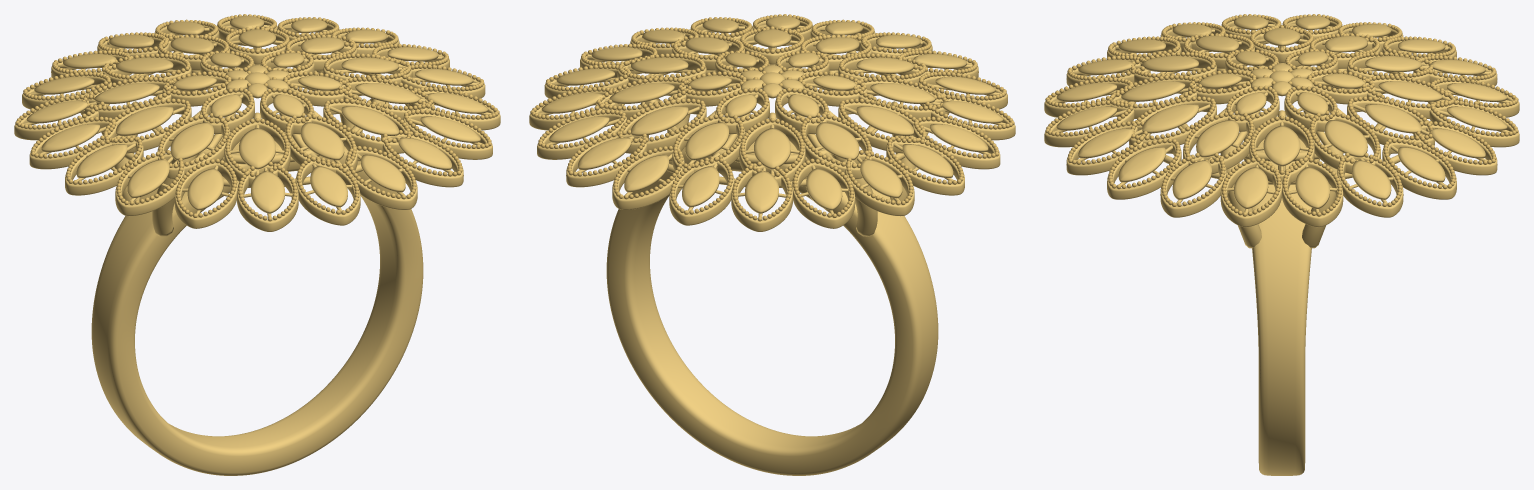
The picture shows the model from 3 angles, left to right: view 1: azimuth 30°, elevation 25°; view 2: azimuth 150°, elevation 25°; view 3: azimuth 270°, elevation 25°; orthographic projection.
Visible parts, largest first — view 1: Closed_18mm_Bore_Comfort_Shank, Outer_Petal_13_Raised_Open_Marquise_Rim, Middle_Petal_09_Polished_Convex_Marquise, Outer_Petal_15_Raised_Open_Marquise_Rim, Outer_Petal_14_Raised_Open_Marquise_Rim, Middle_Petal_10_Polished_Convex_Marquise, Middle_Petal_08_Polished_Convex_Marquise, Outer_Petal_12_Raised_Open_Marquise_Rim, Outer_Petal_16_Raised_Open_Marquise_Rim, Outer_Petal_13_Polished_Convex_Marquise, Outer_Petal_14_Polished_Convex_Marquise, Outer_Petal_15_Polished_Convex_Marquise (+41 smaller); view 2: Closed_18mm_Bore_Comfort_Shank, Outer_Petal_08_Raised_Open_Marquise_Rim, Middle_Petal_05_Polished_Convex_Marquise, Outer_Petal_06_Raised_Open_Marquise_Rim, Outer_Petal_07_Raised_Open_Marquise_Rim, Middle_Petal_04_Polished_Convex_Marquise, Middle_Petal_06_Polished_Convex_Marquise, Outer_Petal_09_Raised_Open_Marquise_Rim, Outer_Petal_05_Raised_Open_Marquise_Rim, Outer_Petal_08_Polished_Convex_Marquise, Outer_Petal_07_Polished_Convex_Marquise, Outer_Petal_06_Polished_Convex_Marquise (+41 smaller); view 3: Closed_18mm_Bore_Comfort_Shank, Middle_Petal_01_Polished_Convex_Marquise, Outer_Petal_03_Raised_Open_Marquise_Rim, Outer_Petal_18_Raised_Open_Marquise_Rim, Middle_Petal_02_Polished_Convex_Marquise, Middle_Petal_12_Polished_Convex_Marquise, Outer_Petal_20_Raised_Open_Marquise_Rim, Outer_Petal_01_Raised_Open_Marquise_Rim, Outer_Petal_02_Raised_Open_Marquise_Rim, Outer_Petal_19_Raised_Open_Marquise_Rim, Outer_Petal_01_Polished_Convex_Marquise, Outer_Petal_20_Polished_Convex_Marquise (+42 smaller).
Boxes of the visible parts, box(x1,y1,x2,y2) form: Closed_18mm_Bore_Comfort_Shank: box(91, 132, 423, 475); Outer_Petal_13_Raised_Open_Marquise_Rim: box(174, 162, 237, 228); Middle_Petal_09_Polished_Convex_Marquise: box(239, 128, 275, 169); Outer_Petal_15_Raised_Open_Marquise_Rim: box(295, 160, 360, 225); Outer_Petal_14_Raised_Open_Marquise_Rim: box(237, 165, 298, 231); Middle_Petal_10_Polished_Convex_Marquise: box(301, 122, 344, 160); Middle_Petal_08_Polished_Convex_Marquise: box(170, 122, 213, 160); Outer_Petal_12_Raised_Open_Marquise_Rim: box(115, 153, 184, 216); Outer_Petal_16_Raised_Open_Marquise_Rim: box(345, 149, 417, 209); Outer_Petal_13_Polished_Convex_Marquise: box(187, 168, 223, 210); Outer_Petal_14_Polished_Convex_Marquise: box(251, 171, 284, 213); Outer_Petal_15_Polished_Convex_Marquise: box(310, 166, 347, 207); Closed_18mm_Bore_Comfort_Shank: box(606, 132, 938, 475); Outer_Petal_08_Raised_Open_Marquise_Rim: box(792, 162, 855, 228); Middle_Petal_05_Polished_Convex_Marquise: box(754, 128, 790, 169); Outer_Petal_06_Raised_Open_Marquise_Rim: box(669, 160, 734, 225); Outer_Petal_07_Raised_Open_Marquise_Rim: box(731, 165, 792, 231); Middle_Petal_04_Polished_Convex_Marquise: box(685, 122, 728, 160); Middle_Petal_06_Polished_Convex_Marquise: box(816, 122, 859, 160); Outer_Petal_09_Raised_Open_Marquise_Rim: box(845, 153, 914, 216); Outer_Petal_05_Raised_Open_Marquise_Rim: box(612, 149, 684, 209); Outer_Petal_08_Polished_Convex_Marquise: box(806, 168, 842, 210); Outer_Petal_07_Polished_Convex_Marquise: box(745, 171, 778, 213); Outer_Petal_06_Polished_Convex_Marquise: box(682, 166, 719, 207); Closed_18mm_Bore_Comfort_Shank: box(1244, 129, 1319, 475); Middle_Petal_01_Polished_Convex_Marquise: box(1263, 125, 1300, 166); Outer_Petal_03_Raised_Open_Marquise_Rim: box(1382, 141, 1456, 199); Outer_Petal_18_Raised_Open_Marquise_Rim: box(1107, 141, 1181, 199); Middle_Petal_02_Polished_Convex_Marquise: box(1325, 120, 1367, 157); Middle_Petal_12_Polished_Convex_Marquise: box(1196, 120, 1238, 157); Outer_Petal_20_Raised_Open_Marquise_Rim: box(1220, 161, 1281, 227); Outer_Petal_01_Raised_Open_Marquise_Rim: box(1282, 161, 1343, 227); Outer_Petal_02_Raised_Open_Marquise_Rim: box(1337, 155, 1403, 217); Outer_Petal_19_Raised_Open_Marquise_Rim: box(1160, 155, 1226, 217); Outer_Petal_01_Polished_Convex_Marquise: box(1295, 167, 1329, 208); Outer_Petal_20_Polished_Convex_Marquise: box(1234, 167, 1268, 208).
Bounding box in the file's own units: 0.0286 × 0.0257 × 0.0286.
